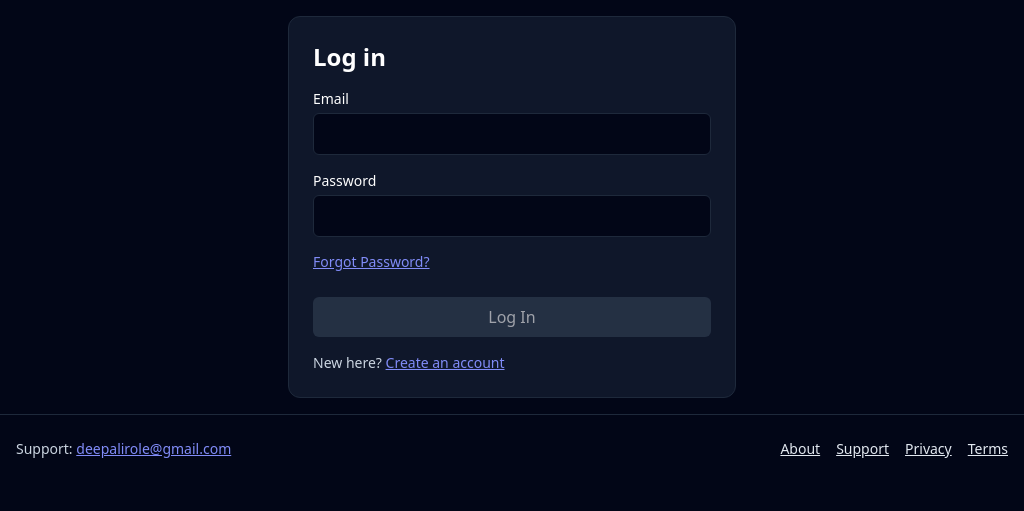
Scenario: Auth pages › TEST 8.8 — Wrong credentials shows friendly error (not raw API error)
Type "test@gmail.com" into the field labelled "Email" at {"x": 512, "y": 134}, box [313,113,711,155]
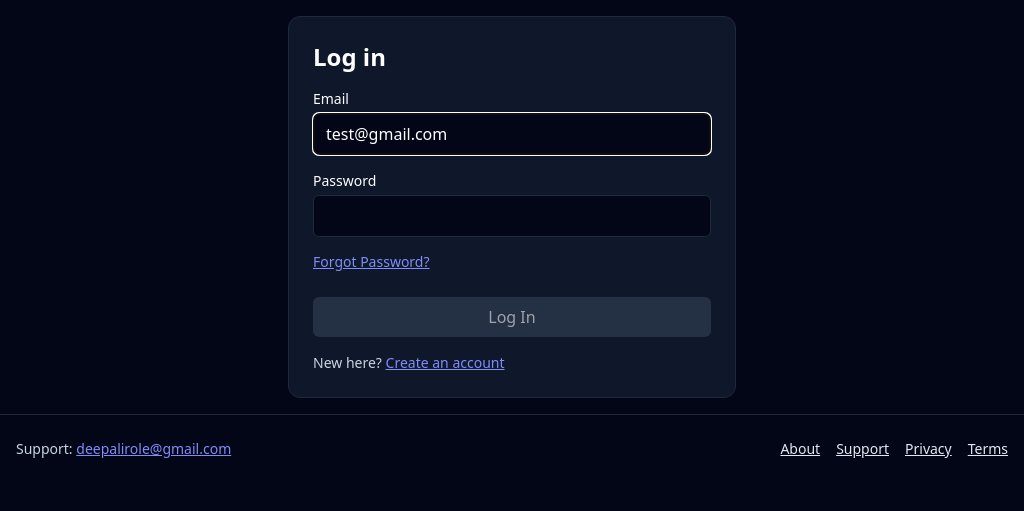
Type "wrong" into the password field labelled "Password" at {"x": 512, "y": 216}, box [313,195,711,237]
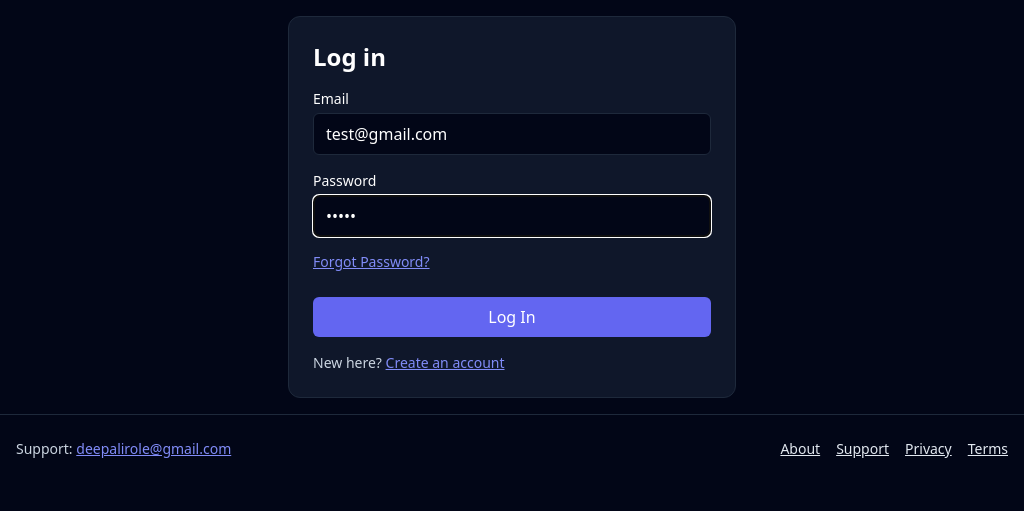
Click the button "Log In" at {"x": 512, "y": 317}, box [313,297,711,337]
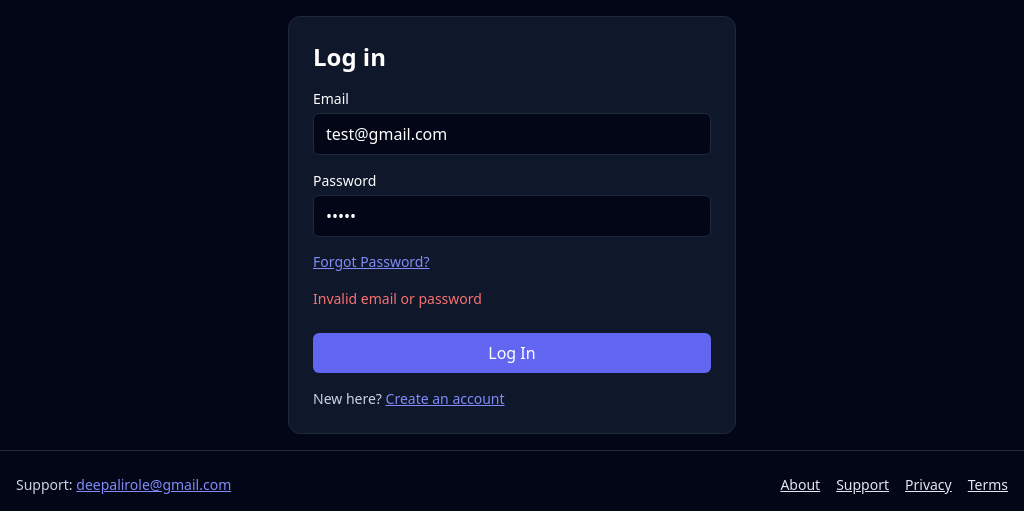
Check: the text "Invalid email or password" is shown, box [313,289,482,308]
